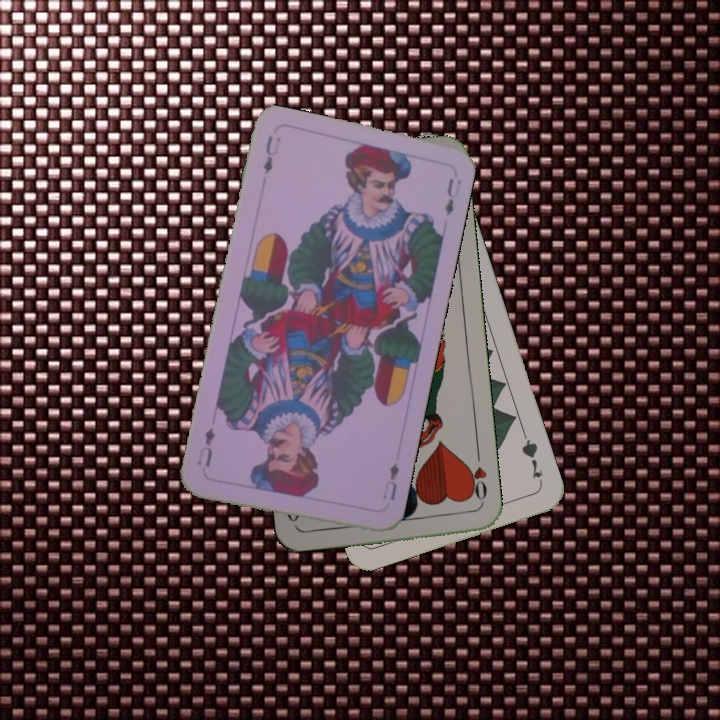EU: (258, 131, 283, 177), (379, 458, 402, 503)
G7: (517, 430, 546, 488)
HO: (462, 448, 490, 507)
